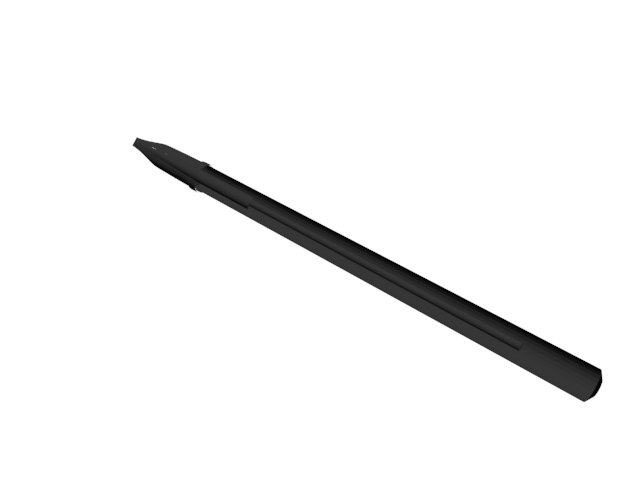pen: (129, 137, 608, 408)
